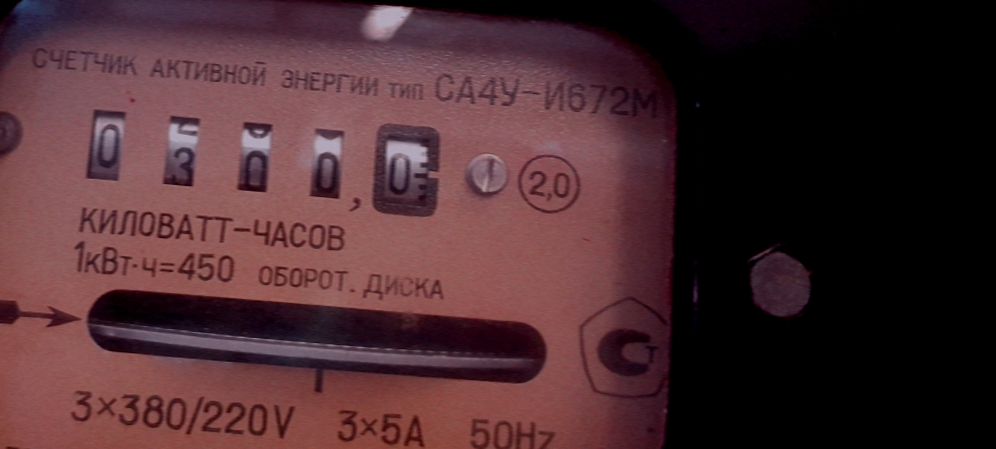0: (383, 150, 415, 201), (93, 119, 123, 173), (238, 146, 269, 196), (309, 150, 341, 198)
3: (166, 143, 198, 189)
screen: (64, 92, 452, 228)
